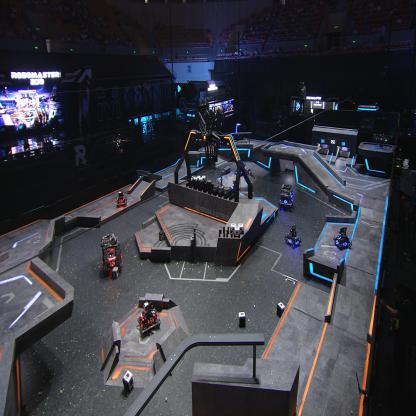car: (100, 233, 122, 274), (137, 301, 161, 337), (333, 225, 352, 250), (284, 224, 302, 249), (278, 183, 294, 210), (234, 160, 246, 178), (115, 191, 127, 209), (230, 180, 242, 195)
